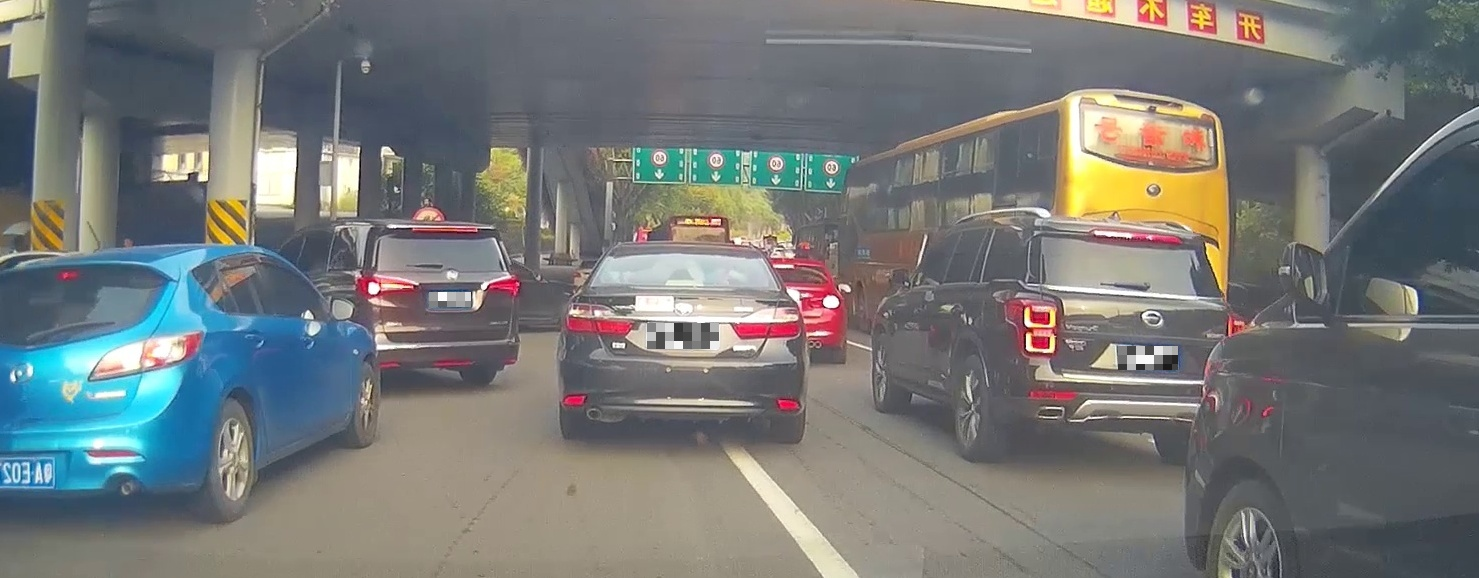L_light: (1002, 296, 1060, 358), (565, 303, 632, 335), (355, 275, 422, 299)
R_light: (731, 306, 801, 338), (480, 275, 518, 295), (1227, 313, 1244, 336)
T_light: (1094, 230, 1182, 245), (412, 226, 477, 232), (675, 248, 704, 254)
day-brake: (999, 221, 1246, 465), (353, 222, 520, 384)
day-no: (556, 242, 806, 444)
plate_1: (429, 292, 471, 307)
plate_2: (647, 323, 719, 349)
plate_3: (1118, 346, 1178, 370)
